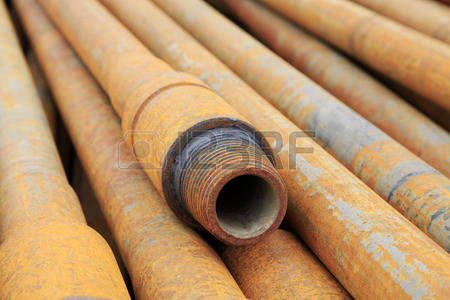rust: (39, 3, 211, 73), (320, 7, 427, 77), (367, 144, 393, 167)
